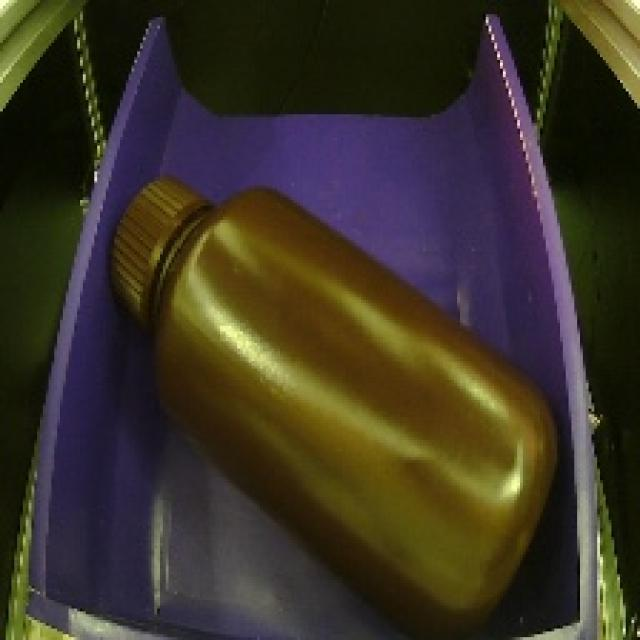plastic: (93, 155, 570, 640)
